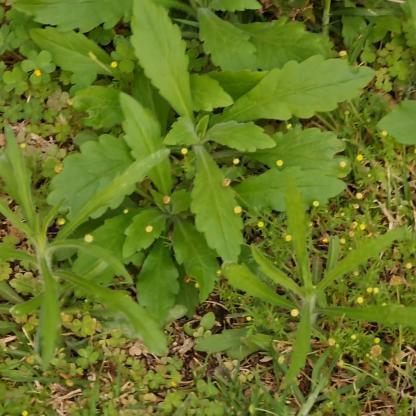Weeds: (46, 0, 374, 328), (187, 175, 415, 396), (1, 120, 172, 376)
